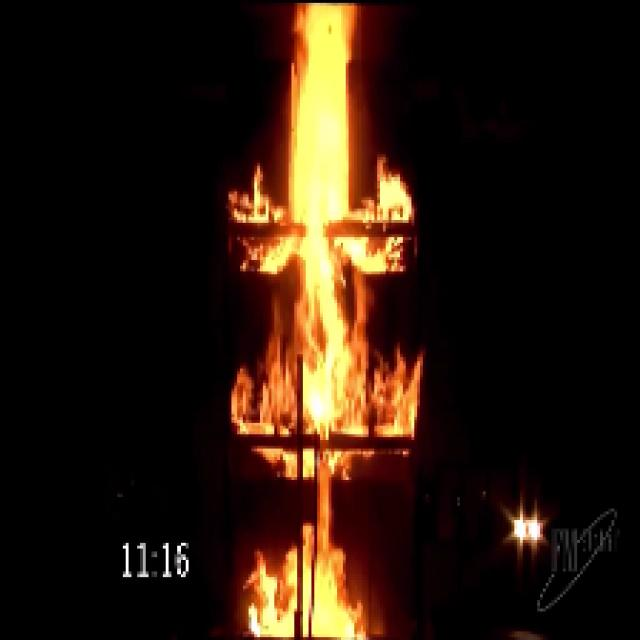fire: (272, 6, 358, 626)
